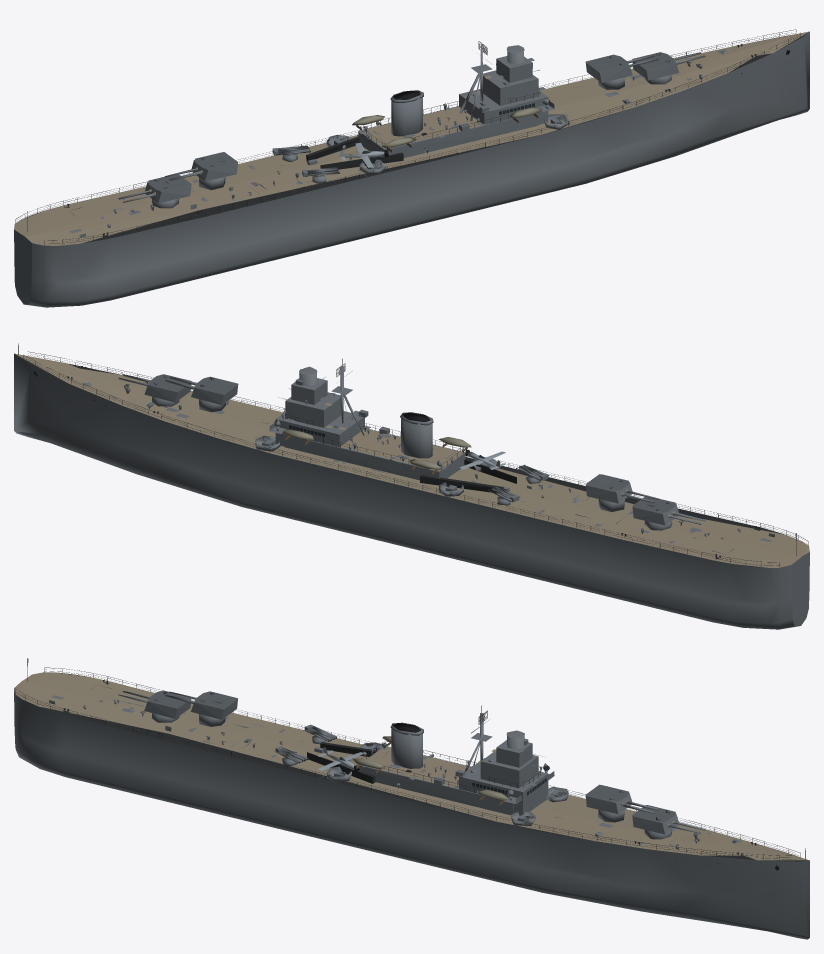
File: leander_lod.glb
The picture shows the model from 3 angles, top to bottom: view 1: azimuth 30°, elevation 25°; view 2: azimuth 150°, elevation 25°; view 3: azimuth 330°, elevation 25°; orthographic projection.
Parts seen in each view (by area): view 1: leander_lod; view 2: leander_lod; view 3: leander_lod.
Part boxes in pixels (x1=…): leander_lod: x1=14, y1=29, x2=809, y2=307; leander_lod: x1=14, y1=343, x2=809, y2=629; leander_lod: x1=14, y1=658, x2=809, y2=939.
Size of the model in its own units: 169 by 33.47 by 18.28.
